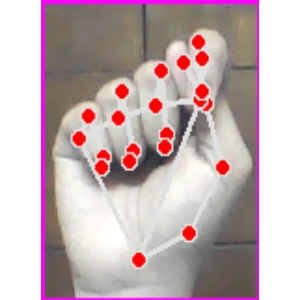T: (41, 4, 260, 300)
